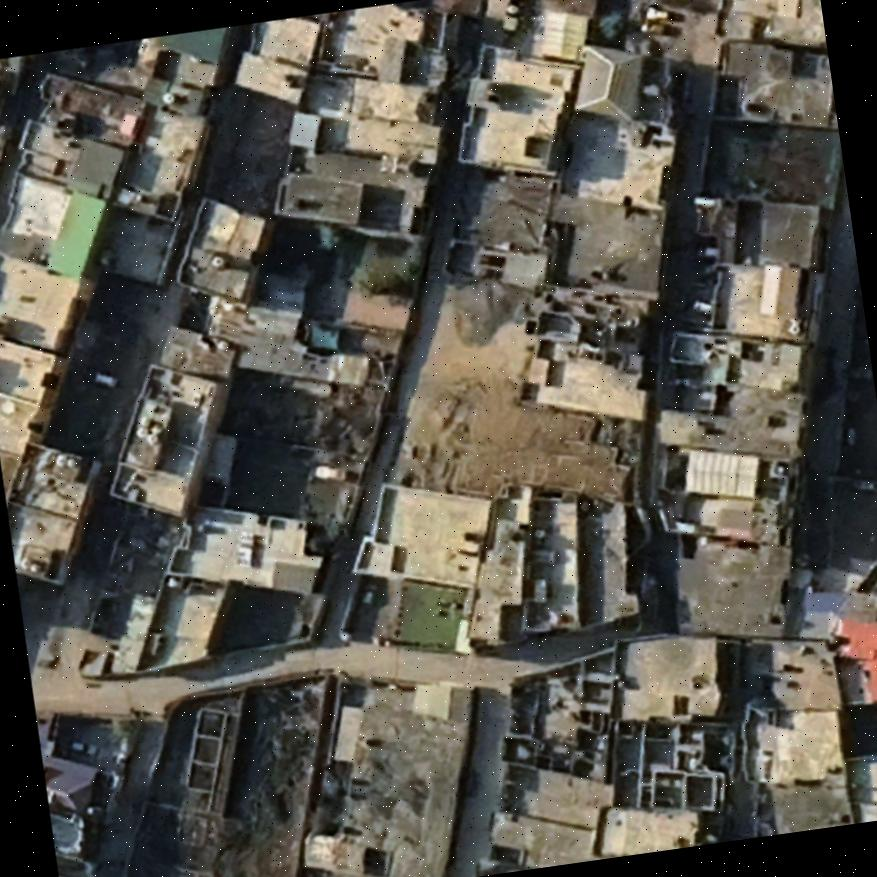Solarpanel: (228, 524, 265, 572)
